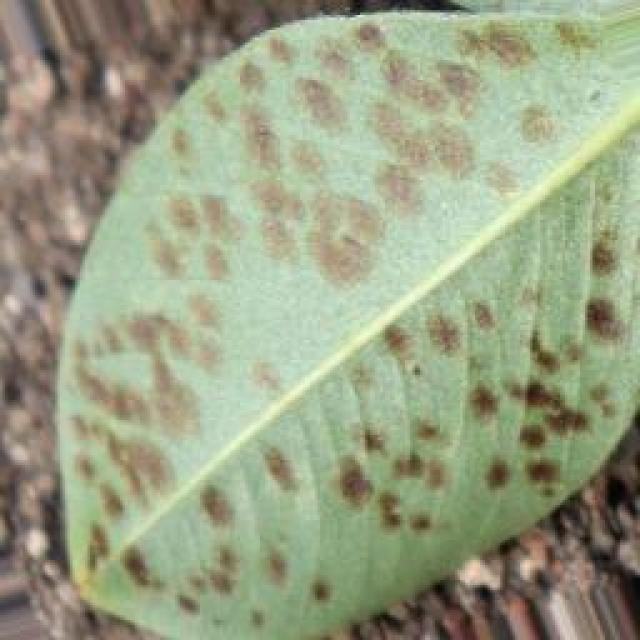Whitefly: (63, 7, 640, 609)
